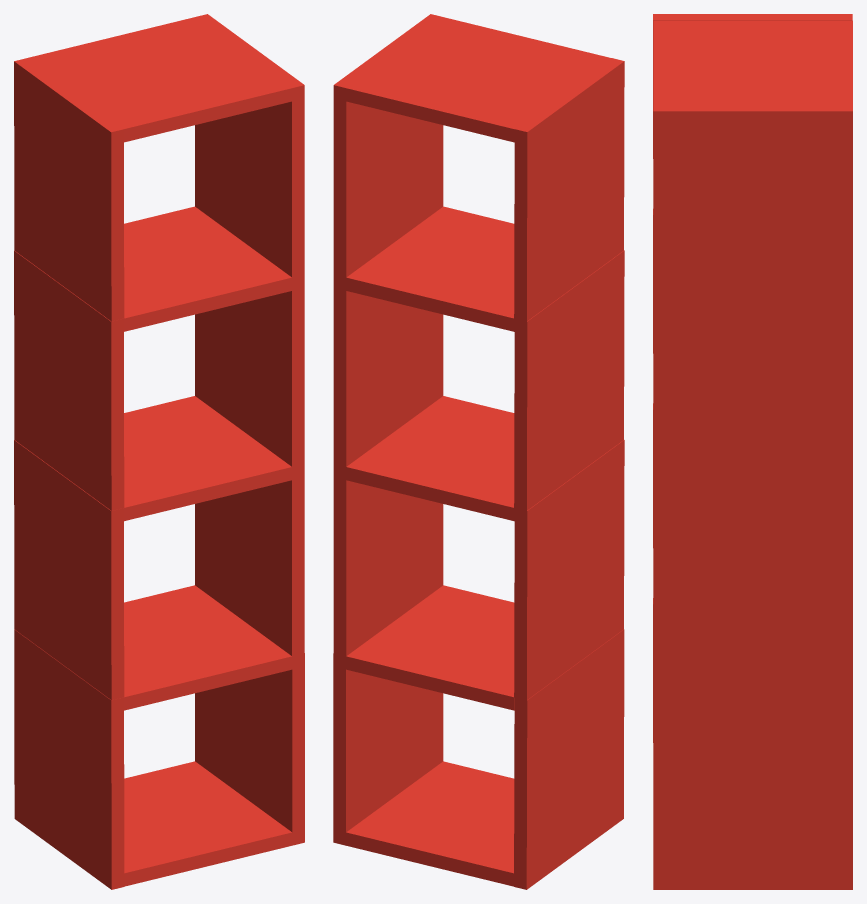
The model's file is vertical-cubby-shelf-by-jarlan-perez-f70A2WAlSP8.glb.
The picture shows the model from 3 angles, left to right: view 1: azimuth 30°, elevation 25°; view 2: azimuth 150°, elevation 25°; view 3: azimuth 270°, elevation 25°; orthographic projection. The views are drawn at different scales.
Visible parts, largest first — view 1: Node; view 2: Node; view 3: Node.
Boxes of the visible parts, x1,y1,x2,y2 form: Node: (14, 14, 304, 889); Node: (333, 14, 624, 889); Node: (653, 14, 852, 889).
Size of the model in its own units: 0.6107 by 2.28 by 0.5306.
